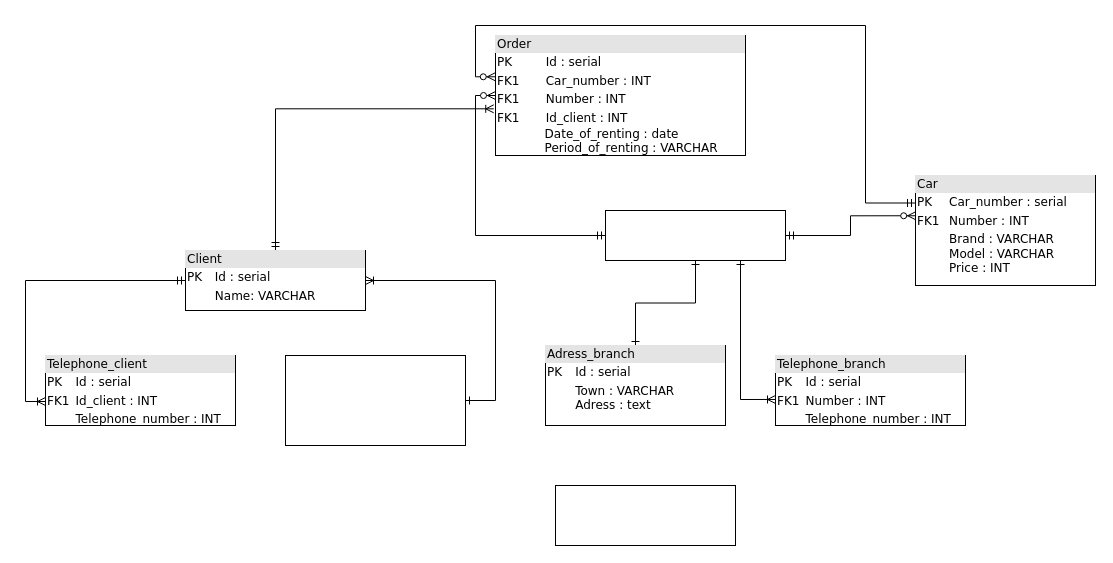
Image size: 1113x563. Some labels were removed from this diagram. Each missing label, with the centre of its shape:
"Adress PK Id : serial FK1 Id_client : INT Town : VARCHAR Adress : text" goes at (375,400).
"Branch PK Number : INT" goes at (695,235).
"Client -> Adress Client -> Telephone_client" goes at (645,515).
